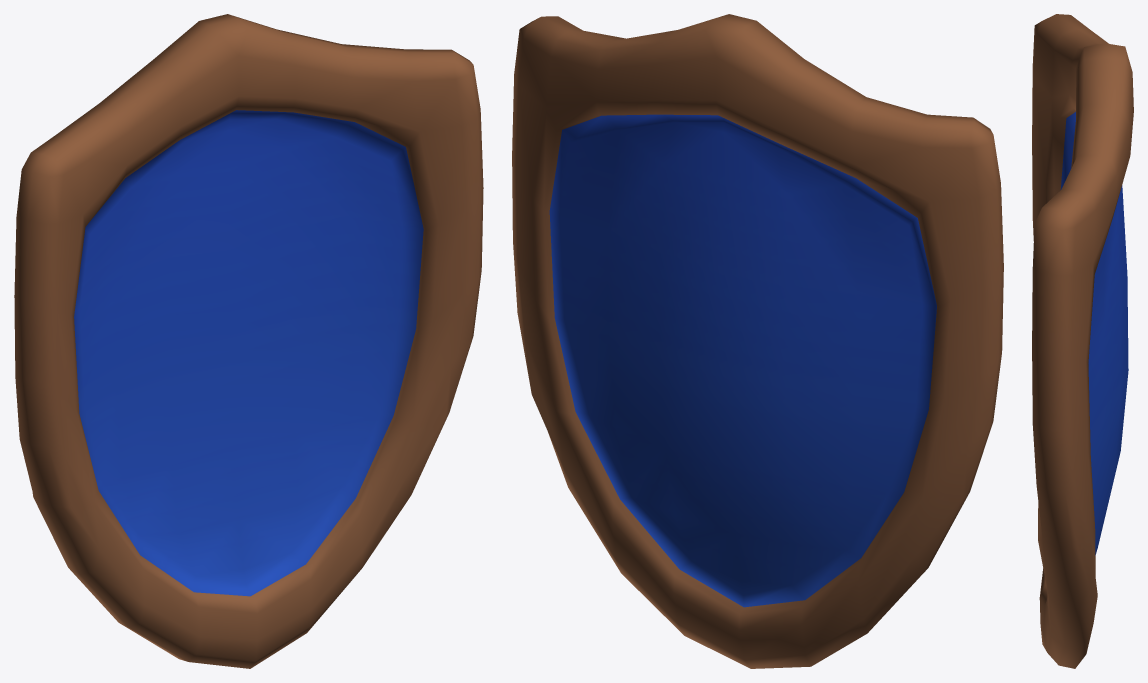
Rendered from Shield.fbx.
The picture shows the model from 3 angles, left to right: view 1: azimuth 30°, elevation 25°; view 2: azimuth 150°, elevation 25°; view 3: azimuth 270°, elevation 25°; orthographic projection. The views are drawn at different scales.
Parts seen in each view (by area): view 1: Shield; view 2: Shield; view 3: Shield.
Boxes of the visible parts, x1=… form: Shield: x1=14, y1=14, x2=483, y2=668; Shield: x1=512, y1=14, x2=1003, y2=668; Shield: x1=1032, y1=14, x2=1133, y2=668.
Bounding box in the file's own units: 196 × 254 × 38.52.
